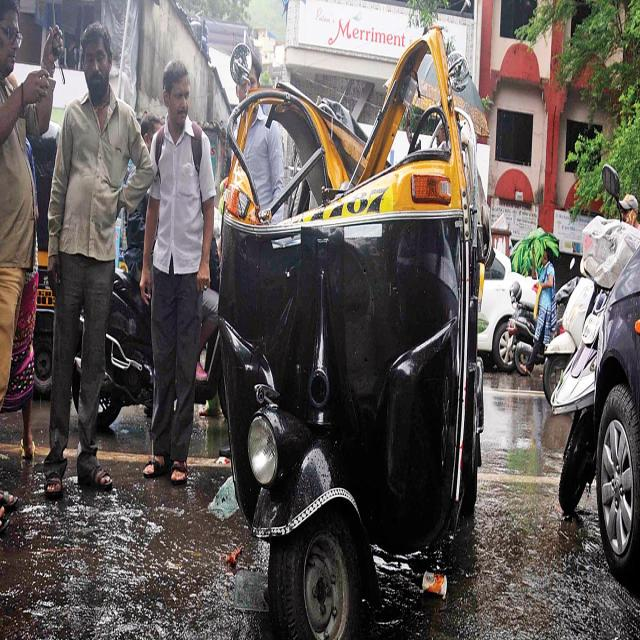accident: (220, 29, 494, 637)
autorickshaw: (29, 120, 60, 397)
car: (594, 247, 640, 586), (478, 251, 536, 371)
motorcycle: (551, 216, 640, 589), (550, 218, 640, 519), (508, 247, 579, 376), (99, 269, 154, 429), (544, 273, 595, 401), (195, 338, 225, 410), (72, 353, 80, 406)
